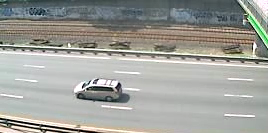car: (71, 76, 128, 103)
